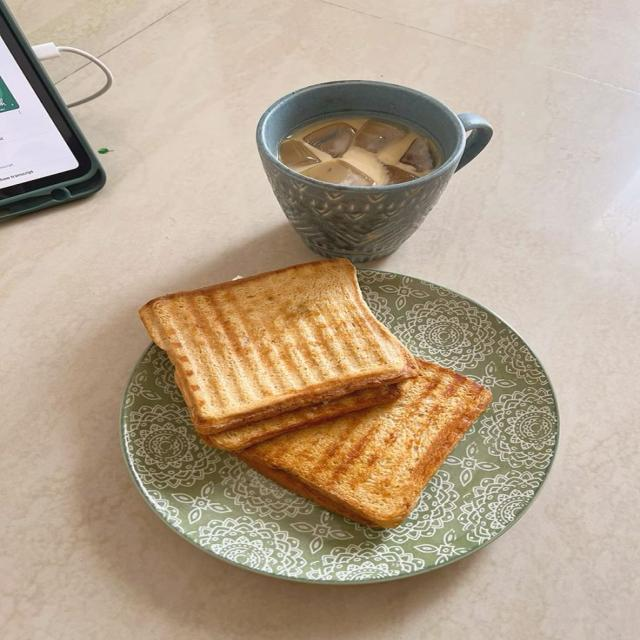toast bread: (140, 260, 417, 434), (237, 361, 491, 527), (200, 384, 399, 450)
